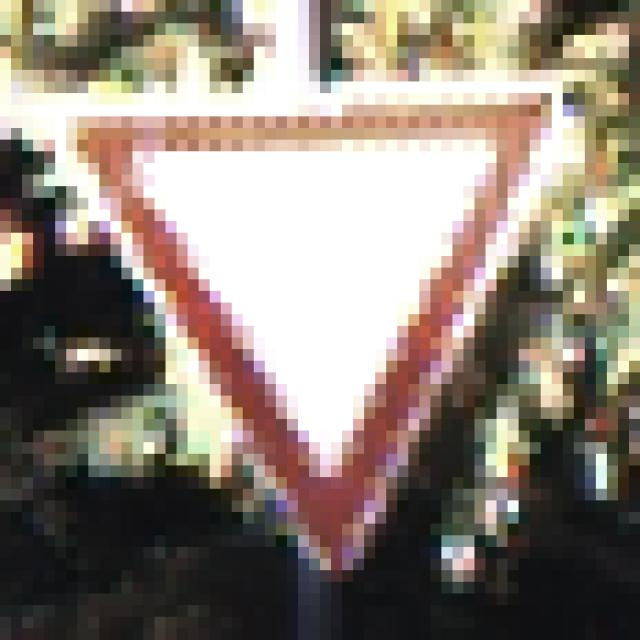Give Way: (56, 59, 586, 583)
